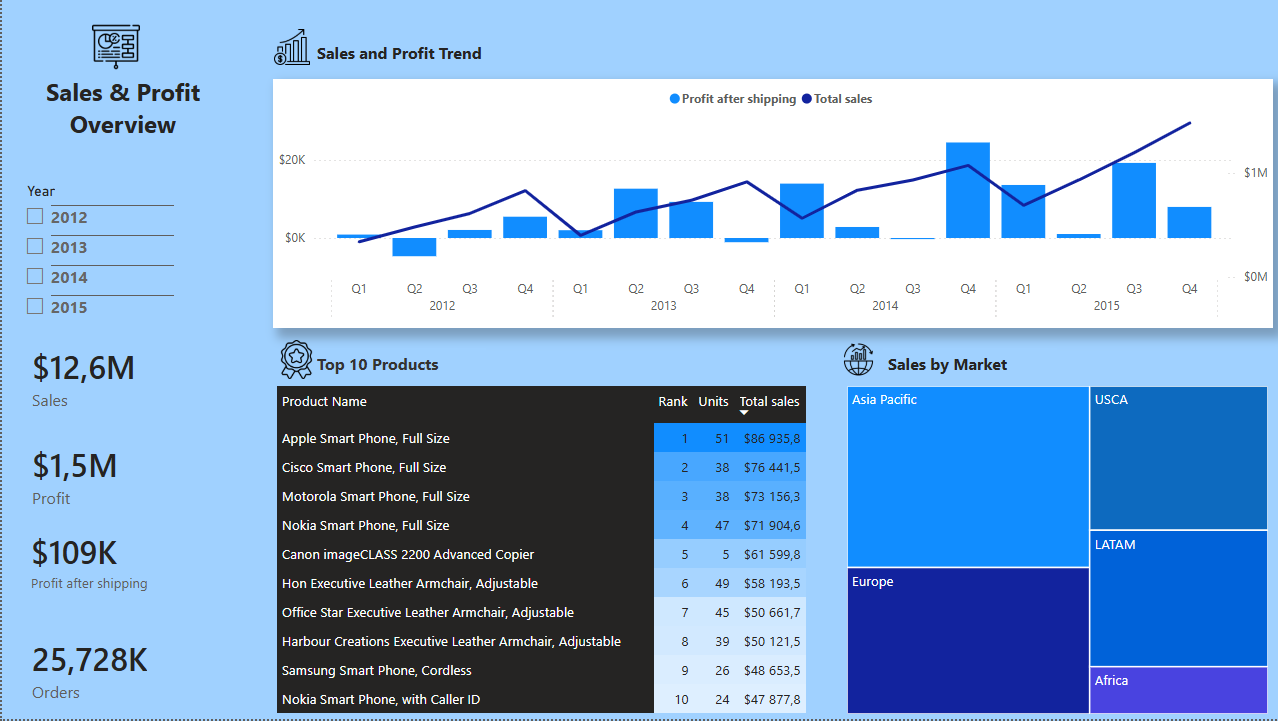

This screenshot's page, from the dashboard's own definition file:
{"tool":"powerbi","page":{"name":"Page 1. Executive overview","canvas":[1280,720],"ordinal":0},"visuals":[{"type":"lineStackedColumnComboChart","title":"Sales & Profit Trend","fields":{"Y":["_mesures.Profit_after_shipping"],"Category":["Calendar.Year","Calendar.Quarter"],"Y2":["_mesures.Ttl_sales"]},"box":[271.3,79.8,999.3,249.2],"z":0},{"type":"cardVisual","fields":{"Data":["_mesures.Ttl_sales"]},"box":[0,329,193.3,97.2],"z":1000,"group":"g1"},{"type":"treemap","title":"Sales by market","fields":{"Group":["Dim_Adress.Market"],"Values":["_mesures.Ttl_sales"]},"box":[839.7,382.2,430.9,337.8],"z":1000},{"type":"textbox","box":[12.4,70.9,217.2,74.5],"z":2000},{"type":"cardVisual","fields":{"Data":["_mesures.Ttl_profit"]},"box":[0,426.4,193.3,97.2],"z":2000,"group":"g1"},{"type":"group","id":"g1","title":"Group 1","box":[0,329,193.3,391],"z":3000},{"type":"cardVisual","fields":{"Data":["_mesures.Profit_after_shipping"]},"box":[0,512.5,193.3,106.3],"z":3000,"group":"g1"},{"type":"textbox","box":[310.3,349.4,173.8,32.8],"z":4000},{"type":"cardVisual","fields":{"Data":["Count(Fact_Orders.Order ID)"]},"box":[0,618.5,193.3,101.5],"z":4000,"group":"g1"},{"type":"slicer","fields":{"Values":["Calendar.Year"]},"box":[12.4,179.1,164.9,149.9],"z":5000},{"type":"textbox","box":[881.4,349.4,173.8,32.8],"z":6000},{"type":"textbox","box":[310.3,38.1,188.9,32.8],"z":7000},{"type":"pivotTable","title":"Top 10 products","fields":{"Rows":["Dim_Product.Product Name"],"Values":["_mesures.Rank","CountNonNull(Fact_Orders.Product ID)","_mesures.Ttl_sales"]},"box":[269.6,382.2,546.2,337.8],"z":8000},{"type":"image","box":[78.9,23.9,69.2,47.9],"z":9000},{"type":"image","box":[256.3,30.1,67.4,35.5],"z":10000},{"type":"image","box":[271.3,341.4,47,39],"z":11000},{"type":"image","box":[839.7,338.7,32.8,43.4],"z":12000}]}

Visuals, with their boxes in screenshot pixels (x1, y1, x2, y2), scaled from the page's 1280x720 canvas onto the 1278x721 screenshot:
"Sales & Profit Trend" lineStackedColumnComboChart: pyautogui.locateOnScreen(271, 80, 1269, 329)
cardVisual - _mesures.Ttl_sales: pyautogui.locateOnScreen(0, 329, 193, 427)
"Sales by market" treemap: pyautogui.locateOnScreen(838, 383, 1269, 720)
textbox: pyautogui.locateOnScreen(12, 71, 229, 146)
cardVisual - _mesures.Ttl_profit: pyautogui.locateOnScreen(0, 427, 193, 524)
"Group 1" group: pyautogui.locateOnScreen(0, 329, 193, 720)
cardVisual - _mesures.Profit_after_shipping: pyautogui.locateOnScreen(0, 513, 193, 620)
textbox: pyautogui.locateOnScreen(310, 350, 483, 383)
cardVisual - Count(Fact_Orders.Order ID): pyautogui.locateOnScreen(0, 619, 193, 720)
slicer - Calendar.Year: pyautogui.locateOnScreen(12, 179, 177, 329)
textbox: pyautogui.locateOnScreen(880, 350, 1054, 383)
textbox: pyautogui.locateOnScreen(310, 38, 498, 71)
"Top 10 products" pivotTable: pyautogui.locateOnScreen(269, 383, 815, 720)
image: pyautogui.locateOnScreen(79, 24, 148, 72)
image: pyautogui.locateOnScreen(256, 30, 323, 66)
image: pyautogui.locateOnScreen(271, 342, 318, 381)
image: pyautogui.locateOnScreen(838, 339, 871, 383)
